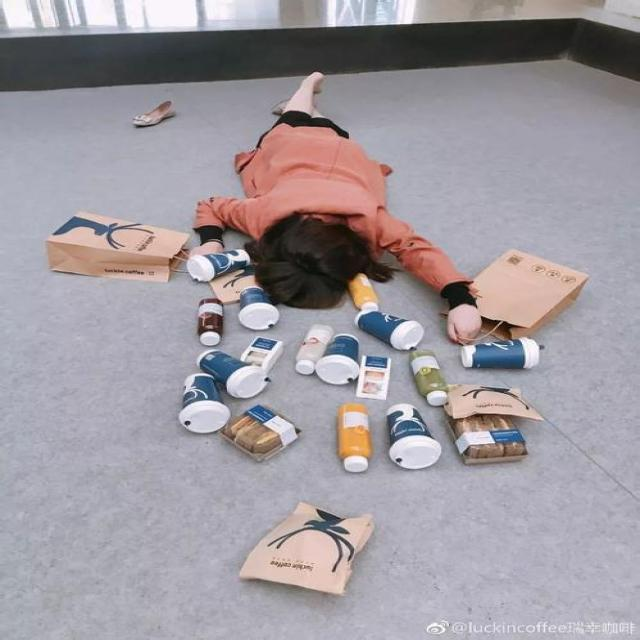down: (186, 52, 542, 386)
